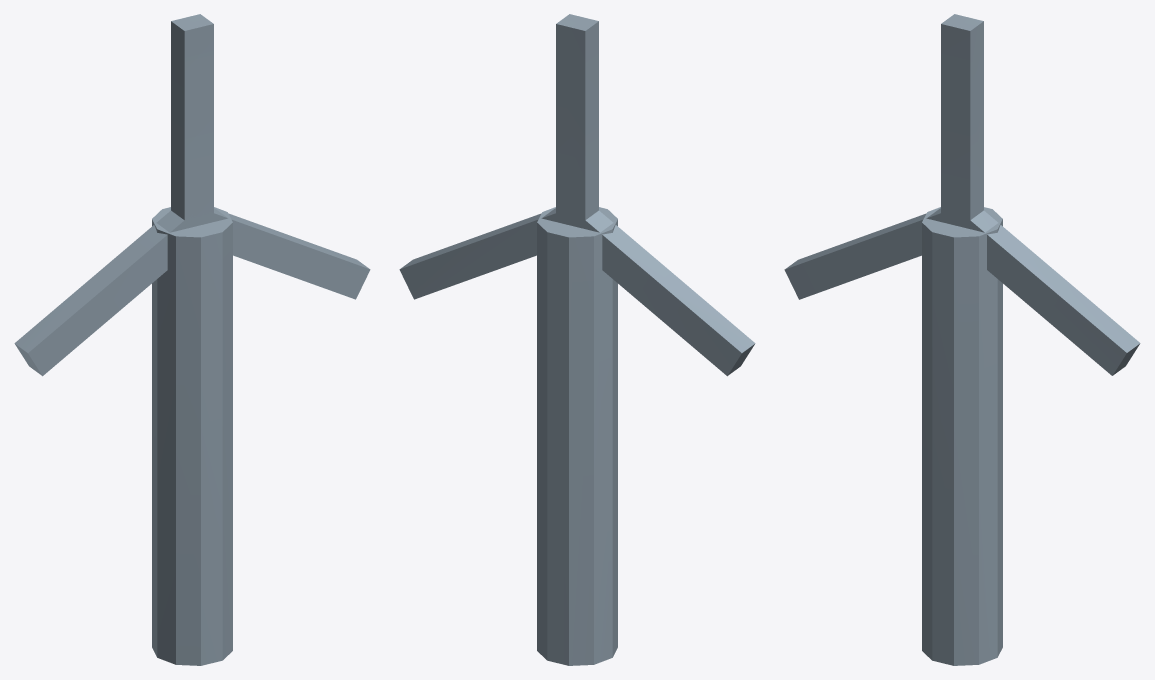
File: wind_turbine-03.glb
3 views of the same model, side by side, from view 1: azimuth 30°, elevation 25°; view 2: azimuth 150°, elevation 25°; view 3: azimuth 330°, elevation 25° (orthographic).
Visible parts, largest first — view 1: world; view 2: world; view 3: world.
Boxes of the visible parts, x1,y1,x2,y2 form: world: [14, 14, 370, 665]; world: [399, 14, 755, 665]; world: [784, 14, 1140, 665].
Size of the model in its own units: 1.17 by 2.04 by 0.2283.
